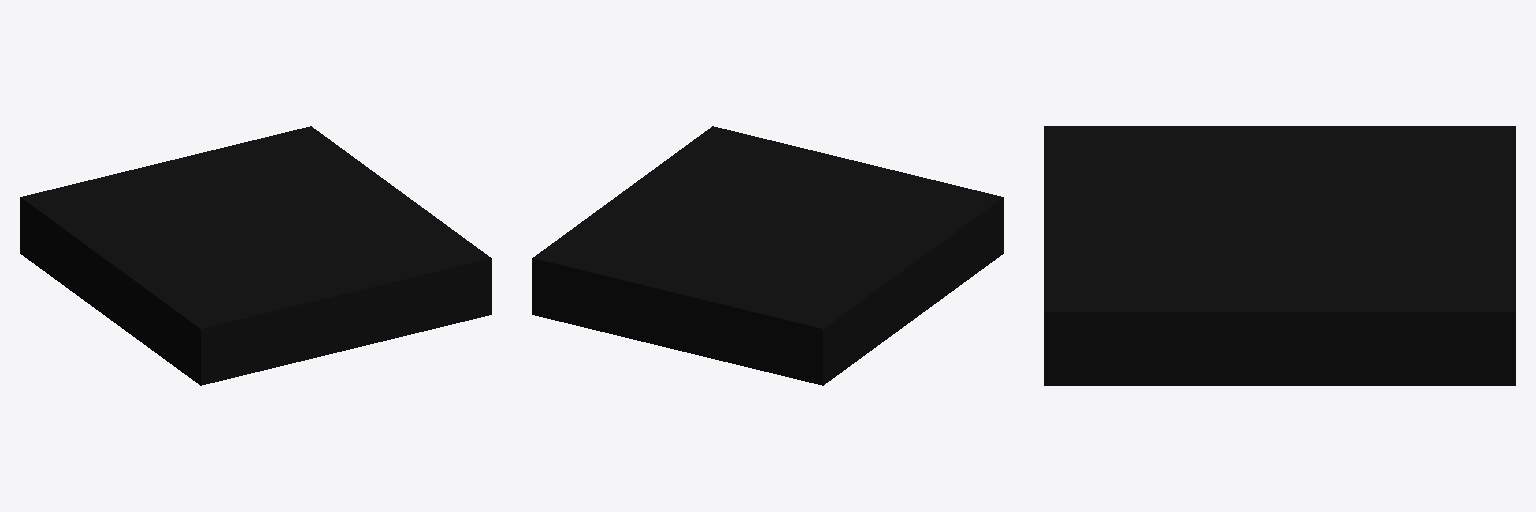
robot.urdf — pioneer-lx:
<?xml version="1.0" ?>
<!-- =================================================================================== -->
<!-- |    This document was autogenerated by xacro from pioneer-lx.urdf.xacro          | -->
<!-- |    EDITING THIS FILE BY HAND IS NOT RECOMMENDED                                 | -->
<!-- =================================================================================== -->
<robot name="pioneer-lx" xmlns:xacro="http://ros.org/wiki/xacro">
  <link name="base_link">
    <!-- base_link origin point is center of rotation, on the floor. -->
    <inertial>
      <mass value="57.8"/>
      <!-- 60 kg minus each wheel -->
      <inertia ixx="1" ixy="0" ixz="0" iyy="1" iyz="0" izz="1"/>
    </inertial>
    <visual>
      <geometry name="base_link_visual_geom">
        <mesh filename="package://amr_robots_description/meshes/pioneer-lx/pioneer-lx_visual.stl" scale="0.001 0.001 0.001"/>
      </geometry>
      <origin rpy="0 0 1.570796" xyz="0 0 0.0"/>
    </visual>
    <collision name="base_link_collision">
      <geometry name="base_link_collision_geom">
        <box size="0.7 0.5 0.35"/>
      </geometry>
      <origin rpy="0 0 0" xyz="0 0 0.2"/>
    </collision>
  </link>
  <!-- right wheel -->
  <link name="r_wheel">
    <inertial>
      <mass value="1.1"/>
      <!-- kg -->
      <inertia ixx="0.02" ixy="0" ixz="0" iyy="0.02" iyz="0" izz="0.01"/>
    </inertial>
    <!--
TODO separate out pioner lx wheels in visual model 
    <visual>
      <geometry name="r_wheel_dumb_visual_geom">
        <cylinder radius="0.100" length="0.05" />
      </geometry>
      <origin rpy="1.570796 0 0" />
    </visual>
   -->
    <collision name="r_wheel_collision">
      <geometry name="r_wheel_collision_geom">
        <cylinder length="0.05" radius="0.100"/>
      </geometry>
      <origin rpy="1.570796 0 0"/>
    </collision>
  </link>
  <!-- left wheel -->
  <link name="l_wheel">
    <inertial>
      <mass value="1.1"/>
      <!-- kg -->
      <inertia ixx="0.02" ixy="0" ixz="0" iyy="0.02" iyz="0" izz="0.01"/>
    </inertial>
    <!--
    <visual>
      <geometry name="l_wheel_dumb_visual_geom">
        <cylinder radius="0.100" length="0.05" />
      </geometry>
      <origin rpy="1.570796 0 0" />
    </visual>
   -->
    <collision name="l_wheel_collision">
      <geometry name="l_wheel_collision_geom">
        <cylinder length="0.05" radius="0.100"/>
      </geometry>
      <origin rpy="1.570796 0 0"/>
    </collision>
  </link>
  <!-- joints -->
  <joint name="r_wheel_joint" type="continuous">
    <origin rpy="0 0 0" xyz="0 0.2 0.1"/>
    <parent link="base_link"/>
    <child link="r_wheel"/>
  </joint>
  <joint name="l_wheel_joint" type="continuous">
    <origin rpy="0 0 0" xyz="0 -0.2 0.1"/>
    <parent link="base_link"/>
    <child link="l_wheel"/>
  </joint>
  <!-- pioneer lx deck -->
  <link name="deck">
    <visual>
      <geometry name="deck_visual_geom">
        <box size="0.407 0.437 0.076"/>
      </geometry>
      <material name="lx_deck_mat">
        <color rgba="0.1 0.1 0.1 1"/>
      </material>
    </visual>
    <collision name="deck_collision">
      <geometry name="deck_collision_geom">
        <box size="0.407 0.437 0.076"/>
      </geometry>
    </collision>
  </link>
  <joint name="deck_joint" type="fixed">
    <origin rpy="0 0 0" xyz="0.075 0 0.410"/>
    <parent link="base_link"/>
    <child link="deck"/>
  </joint>
  <gazebo>
    <plugin filename="libgazebo_ros_diff_drive.so" name="differential_drive_controller">
      <alwaysOn>true</alwaysOn>
      <updateRate>100</updateRate>
      <leftJoint>l_wheel_joint</leftJoint>
      <rightJoint>r_wheel_joint</rightJoint>
      <wheelSeparation>0.4</wheelSeparation>
      <wheelDiameter>0.2</wheelDiameter>
      <torque>5</torque>
      <!-- interface:position name="position_iface_0"/ -->
      <commandTopic>cmd_vel</commandTopic>
      <robotBaseFrame>base_link</robotBaseFrame>
      <odometryTopic>odom</odometryTopic>
      <odometryFrame>odom</odometryFrame>
    </plugin>
    <!-- TODO include P3D (ground truth) plugin -->
  </gazebo>
</robot>

--- What the picture shows (computed from the rendered views, not written in the file) ---
3 views of the same robot in one strip: view 1: azimuth 30°, elevation 25°; view 2: azimuth 150°, elevation 25°; view 3: azimuth 270°, elevation 25° (orthographic).
Robot: pioneer-lx — 4 links, 3 joints (2 continuous, 1 fixed); root link base_link; default pose: all joints at 0.
Links seen in each view (by area): view 1: deck; view 2: deck; view 3: deck.
Link boxes in pixels (x1=…): deck: x1=20, y1=126, x2=491, y2=385; deck: x1=532, y1=126, x2=1003, y2=385; deck: x1=1044, y1=126, x2=1515, y2=385.
Bounding box of the posed robot: 0.407 × 0.437 × 0.076 m (x, y, z).
0 mesh visuals loaded from 1 distinct referenced files (none loaded); not drawn: 1 (reference not matched to a file when rendering).